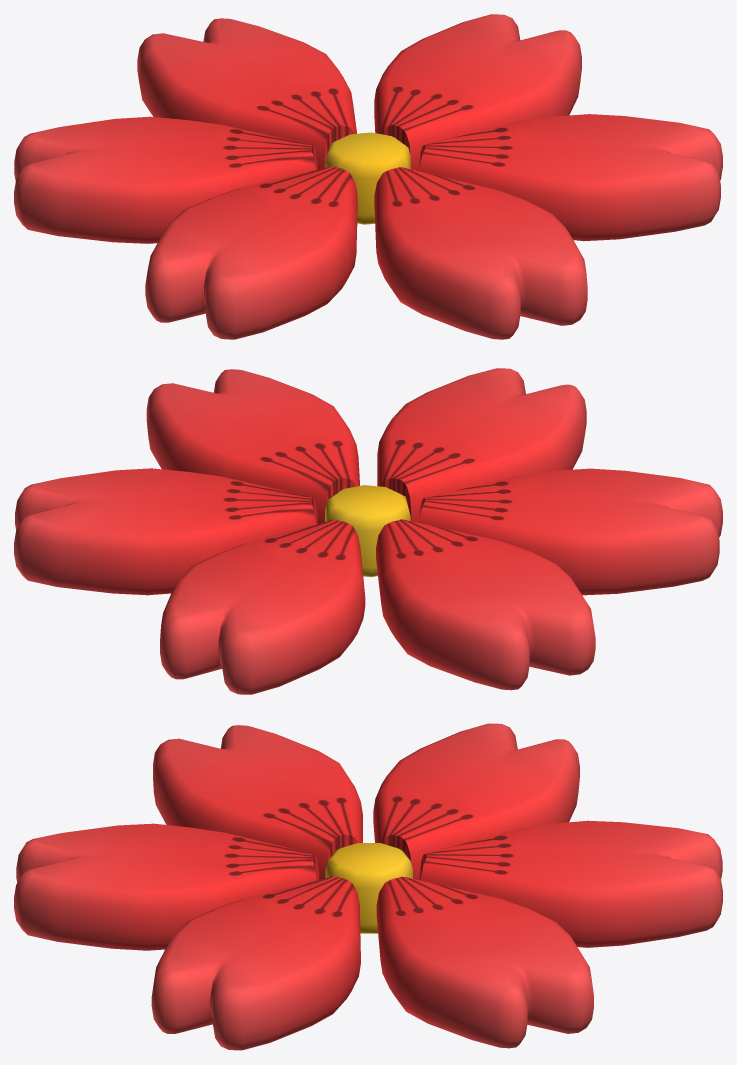
Rendered from FinalHexaMesh.fbx.
3 views of the same model, one above another, from view 1: azimuth 30°, elevation 25°; view 2: azimuth 150°, elevation 25°; view 3: azimuth 270°, elevation 25° (orthographic).
Visible parts, largest first — view 1: Cylinder.016; view 2: Cylinder.016; view 3: Cylinder.016.
Part boxes in pixels (left/top/right/bottom): Cylinder.016: left=14, top=14, right=722, bottom=339; Cylinder.016: left=14, top=368, right=722, bottom=694; Cylinder.016: left=14, top=723, right=722, bottom=1050.
Size of the model in its own units: 29.08 by 3.05 by 31.25.
